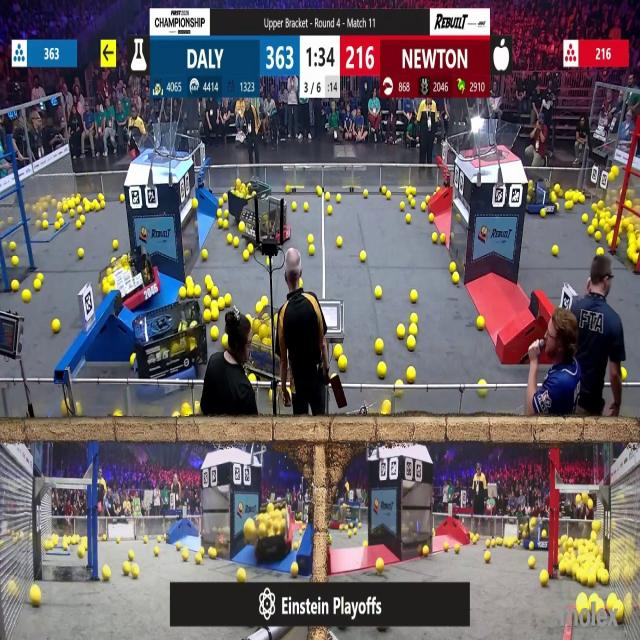ball_airborne: (592, 520, 600, 532), (613, 164, 620, 176), (589, 498, 594, 509), (626, 201, 632, 210), (608, 172, 613, 181), (575, 495, 580, 503)
ball_ground: (30, 586, 42, 607), (539, 570, 548, 586), (379, 361, 387, 377), (617, 606, 625, 622), (588, 572, 597, 586), (340, 356, 348, 371), (382, 404, 391, 417), (606, 596, 615, 609), (408, 366, 416, 380), (376, 340, 384, 354), (238, 568, 246, 582), (396, 324, 404, 338), (102, 566, 110, 580), (132, 564, 140, 578), (122, 562, 130, 576), (23, 290, 32, 302), (408, 338, 417, 350), (291, 562, 298, 577), (600, 571, 608, 584), (377, 559, 384, 573), (335, 345, 343, 357), (478, 317, 485, 330), (211, 326, 218, 339), (410, 324, 418, 335), (209, 549, 217, 560), (102, 284, 110, 295), (184, 407, 192, 418), (11, 280, 18, 292), (54, 320, 61, 332), (205, 310, 212, 322), (621, 366, 628, 378), (217, 296, 224, 308), (186, 286, 194, 296), (44, 540, 52, 550), (412, 289, 418, 302), (221, 336, 227, 349), (34, 280, 41, 291), (528, 557, 535, 568), (193, 285, 200, 296), (596, 600, 603, 611), (559, 563, 566, 574), (180, 286, 186, 298), (376, 286, 382, 298), (224, 293, 230, 305), (185, 277, 193, 286), (212, 309, 218, 321), (206, 276, 212, 288), (595, 232, 602, 242), (11, 256, 18, 266), (243, 250, 250, 260), (632, 253, 639, 263), (576, 192, 583, 202), (203, 249, 209, 260), (78, 248, 84, 259), (212, 287, 218, 298), (195, 554, 201, 565), (182, 551, 188, 562), (453, 274, 459, 285), (205, 295, 211, 306), (607, 239, 613, 250), (76, 407, 82, 418), (9, 242, 16, 251), (420, 203, 427, 212), (412, 314, 418, 324), (553, 246, 559, 256), (112, 240, 118, 250), (360, 251, 366, 261), (129, 552, 135, 562), (309, 245, 315, 255), (431, 234, 437, 244), (422, 545, 428, 555), (441, 235, 447, 245), (226, 235, 232, 245), (485, 552, 491, 562), (239, 221, 245, 231), (256, 304, 262, 314), (78, 549, 84, 559), (316, 186, 322, 196), (93, 201, 99, 211), (604, 222, 610, 232), (480, 389, 487, 397), (566, 202, 573, 210), (564, 191, 571, 199), (326, 207, 332, 216), (42, 219, 48, 228), (583, 214, 589, 223), (100, 201, 106, 210), (264, 296, 270, 305), (551, 192, 557, 201), (338, 238, 343, 248), (451, 264, 456, 274), (407, 214, 412, 224), (455, 543, 460, 553), (249, 375, 256, 382), (428, 214, 434, 222), (411, 201, 417, 209), (395, 389, 401, 397), (593, 218, 599, 226), (38, 274, 44, 282), (77, 206, 83, 214), (284, 185, 290, 193), (408, 194, 414, 202), (83, 201, 89, 209), (309, 235, 314, 244), (445, 541, 450, 550), (235, 238, 240, 247), (248, 244, 253, 253), (589, 225, 594, 234), (218, 218, 223, 227), (176, 540, 181, 549), (56, 220, 61, 229), (222, 219, 227, 228), (76, 198, 81, 207), (480, 380, 486, 387), (539, 210, 545, 217), (598, 248, 604, 255), (155, 535, 161, 542), (396, 380, 402, 387), (114, 412, 121, 418), (591, 594, 597, 601), (76, 220, 81, 228), (399, 203, 404, 211), (363, 189, 368, 197), (305, 203, 309, 213), (217, 210, 222, 218), (327, 194, 332, 202), (192, 200, 196, 210), (99, 192, 104, 200), (223, 210, 228, 218), (529, 541, 534, 549), (218, 200, 223, 208), (132, 353, 136, 362), (70, 210, 75, 217), (363, 540, 368, 547), (183, 250, 188, 257), (60, 218, 65, 225), (491, 539, 496, 546), (292, 203, 296, 211), (154, 546, 158, 554), (119, 193, 123, 201), (387, 190, 391, 198), (338, 194, 342, 202), (202, 545, 206, 553), (163, 537, 167, 545), (80, 215, 84, 223), (298, 280, 302, 288), (64, 541, 68, 549), (472, 534, 476, 542), (268, 256, 271, 266), (116, 536, 120, 543), (58, 212, 62, 219), (223, 193, 227, 200), (144, 536, 148, 542), (349, 530, 353, 536), (102, 538, 105, 544)
goal: (464, 121, 522, 160), (130, 129, 189, 160)
robot_blue: (131, 303, 208, 400), (256, 497, 296, 577), (525, 179, 555, 214), (516, 518, 547, 550), (338, 507, 359, 529)
robot_red: (99, 254, 160, 312), (237, 181, 292, 244)
